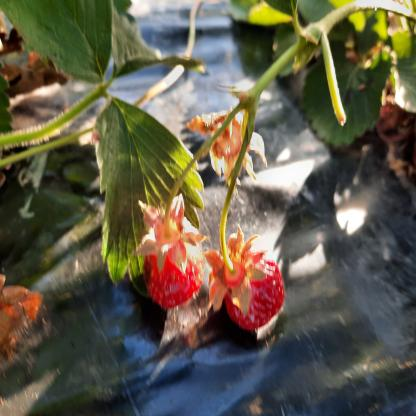ripe: (144, 216, 206, 310), (222, 251, 289, 333)
